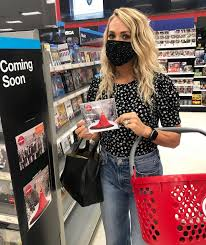mask: (106, 40, 136, 66)
